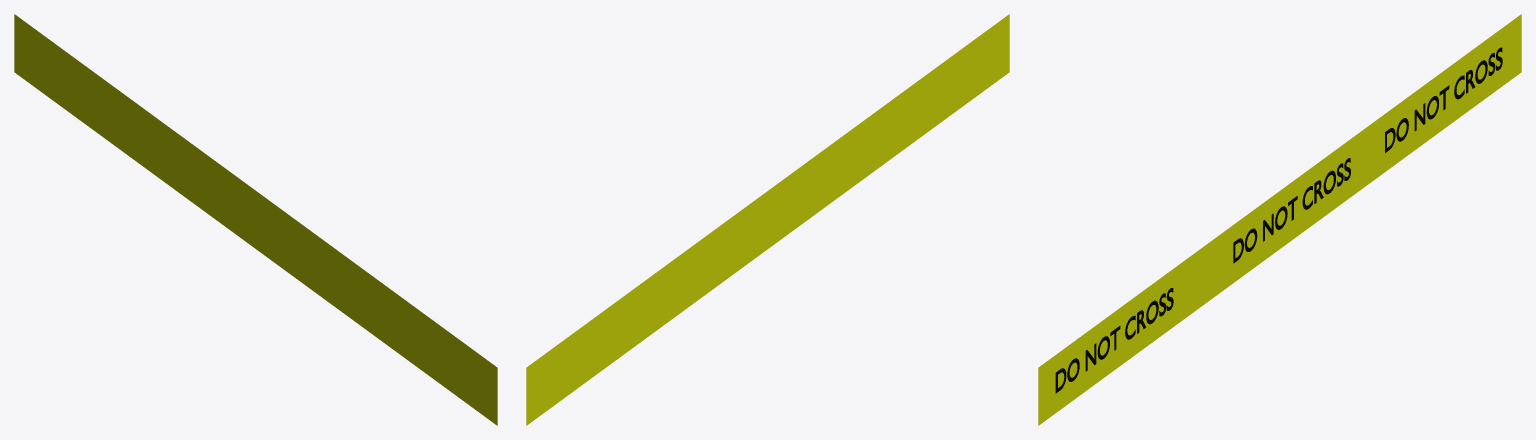
Rendered from PoliceLine.fbx.
3 renders of one model, left to right at view 1: azimuth 30°, elevation 25°; view 2: azimuth 150°, elevation 25°; view 3: azimuth 330°, elevation 25°, orthographic.
Parts seen in each view (by area): view 1: Plane; view 2: Plane; view 3: Plane, Text, Text.002, Text.001.
Boxes of the visible parts, x1,y1,x2,y2 form: Plane: (14,14,497,425); Plane: (526,14,1009,425); Plane: (1038,14,1521,425); Text: (1055,288,1173,393); Text.002: (1385,47,1502,152); Text.001: (1233,158,1350,263).
Size of the model in its own units: 1 by 200 by 3000.
